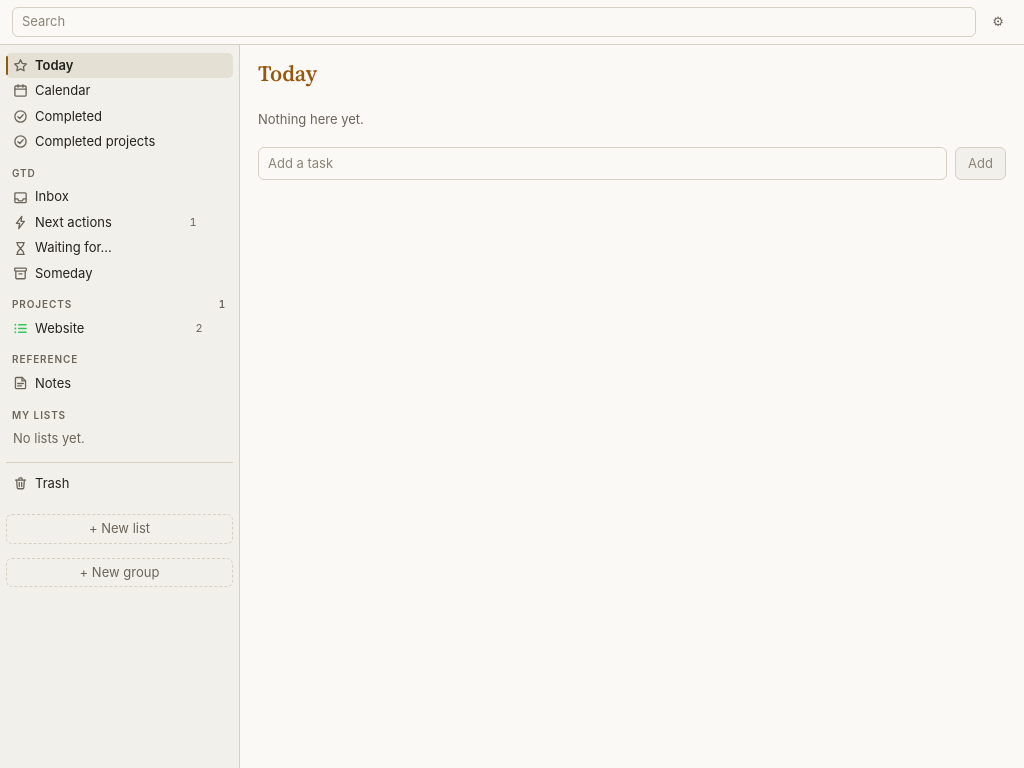
Test: the Next actions mirror, rendered › shows a deadlined project task under Next actions, tagged with its project
What coordinates should you click on to do the following:
click the button "Next actions 1"
I would click on:
 (105, 223)
Its box is [6, 210, 204, 235].
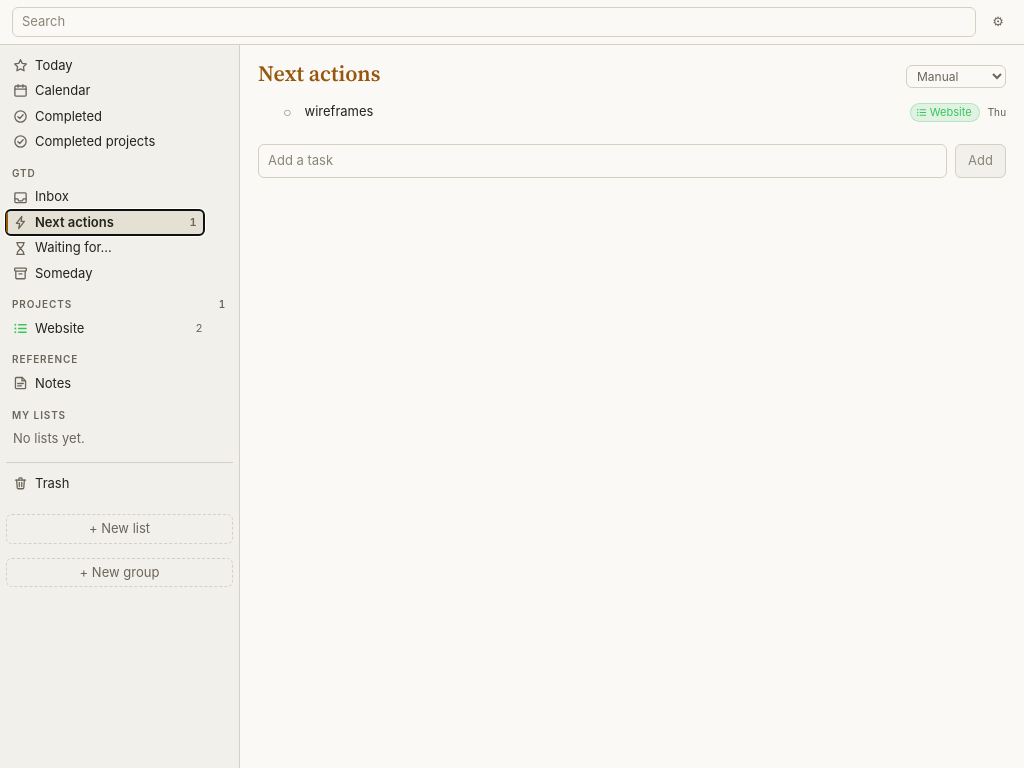
Now the text "wireframes" is shown, box [304, 104, 373, 121]
Now the element titled "From the project “Website”" is shown, box [910, 102, 980, 122]
